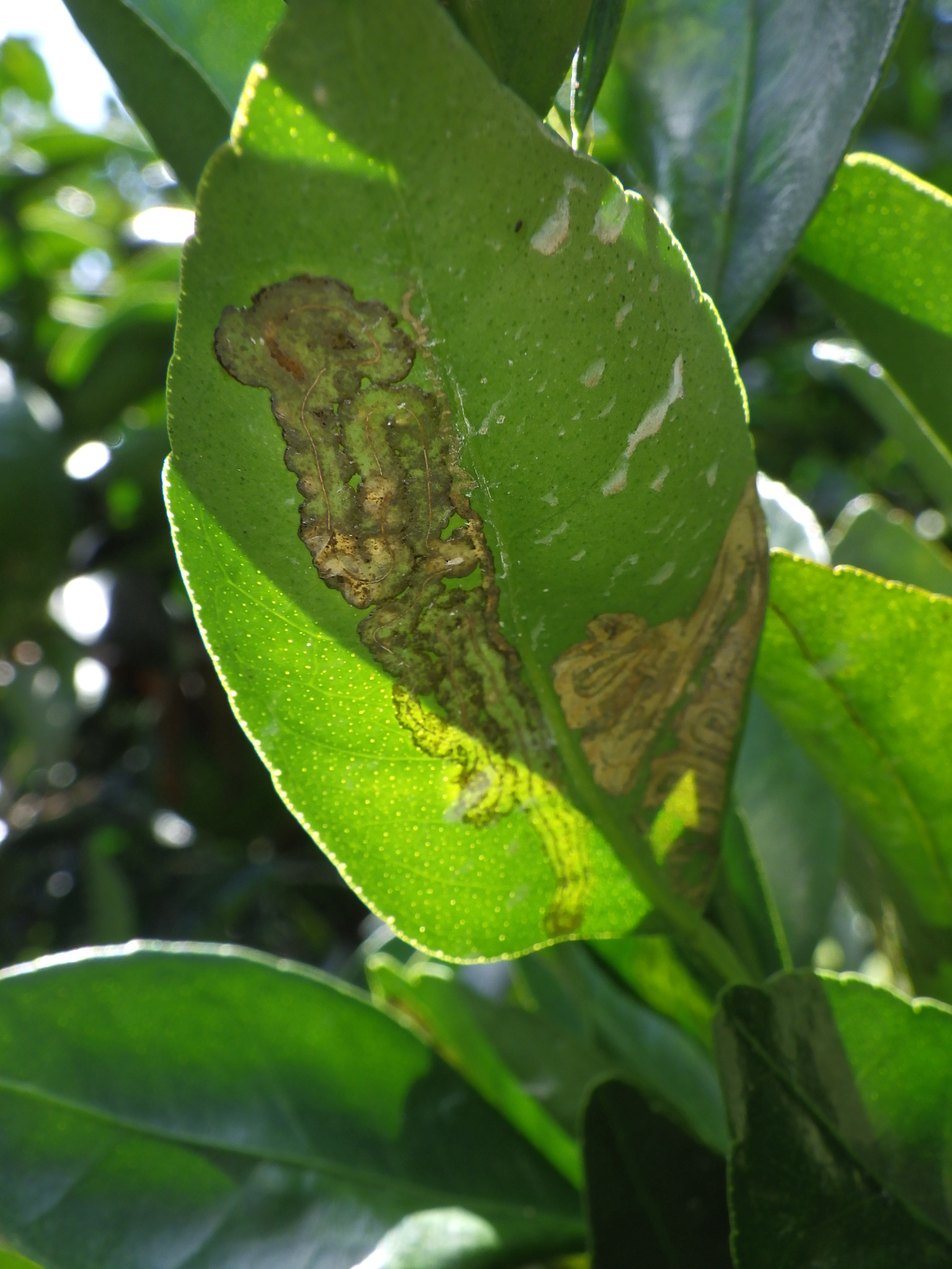Citrus_Leaf_Miner: (215, 275, 540, 823)
